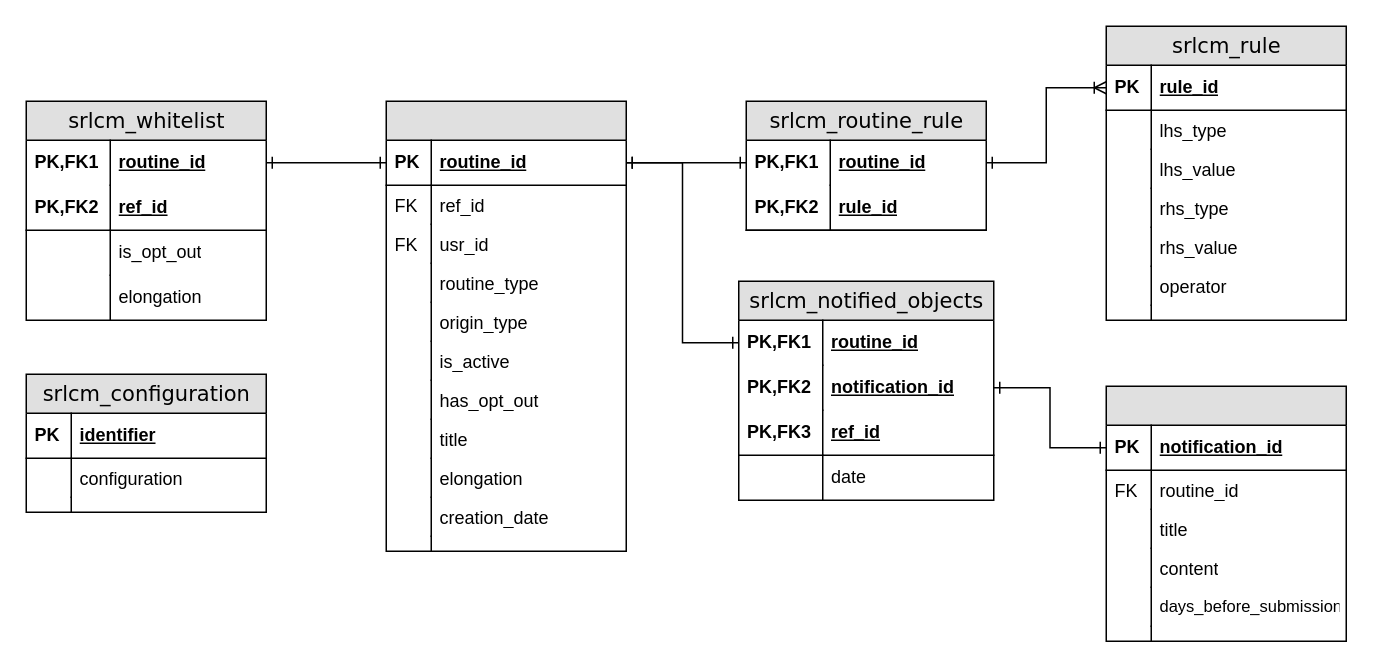
This 1373x668 diagram has some shape labels left out. The shapes that lost their labels are listed below. From the top down, each one's box as (x1, y1, x2, y2) in pixels, then its label:
(385, 100, 626, 551): srlcm_routine
(1105, 385, 1346, 641): srlcm_notification
